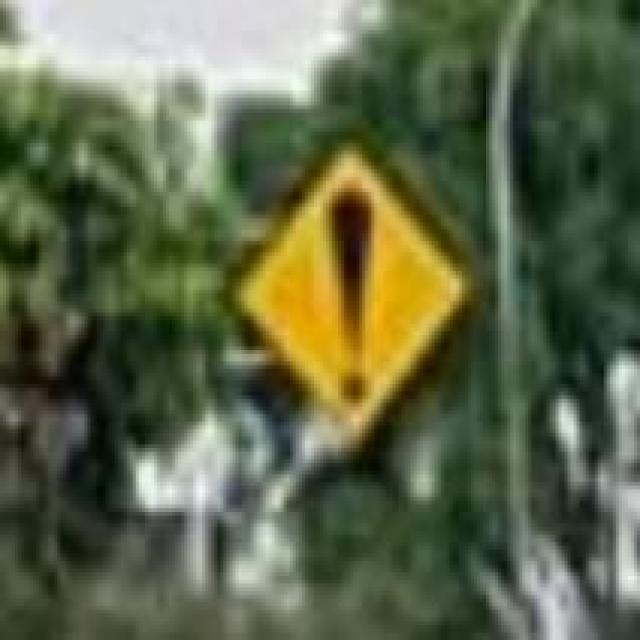traffic sign: (232, 139, 468, 432)
